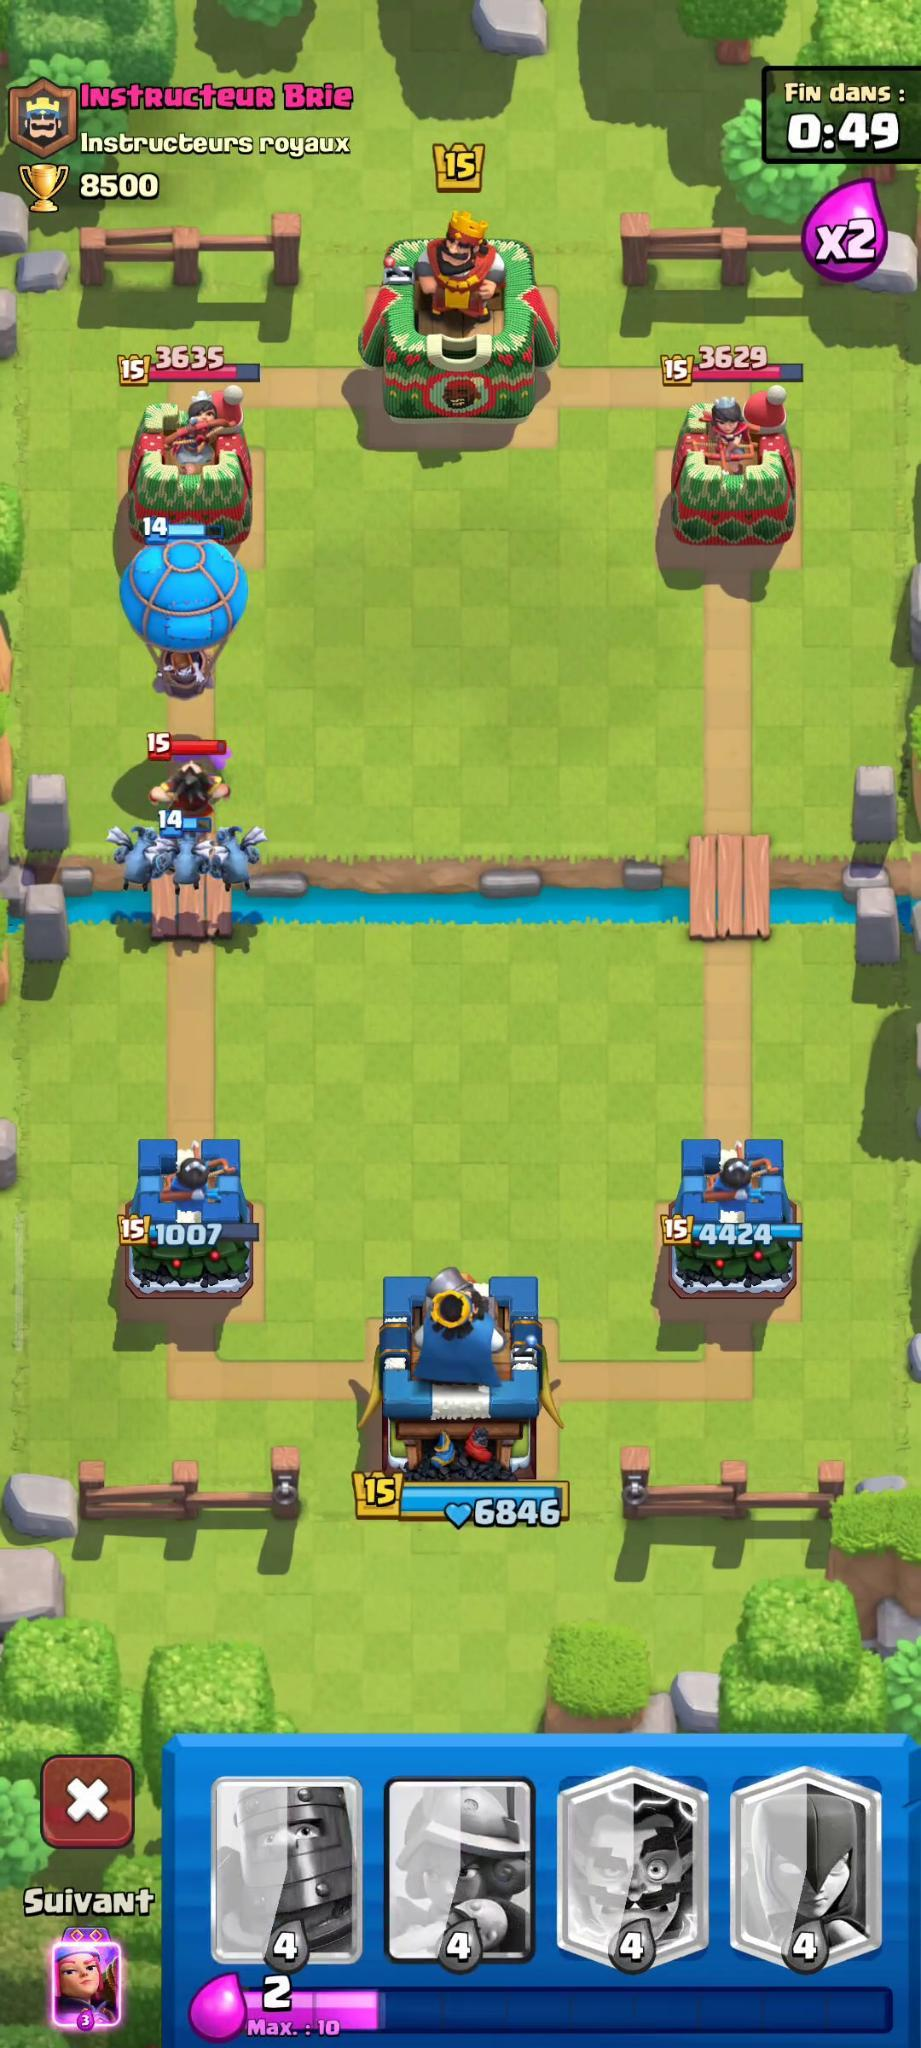enemy_electro_wizard: (130, 721, 248, 828)
player_balloon: (108, 520, 256, 695)
player_minions: (206, 818, 269, 888), (103, 817, 164, 882), (153, 816, 211, 881)
